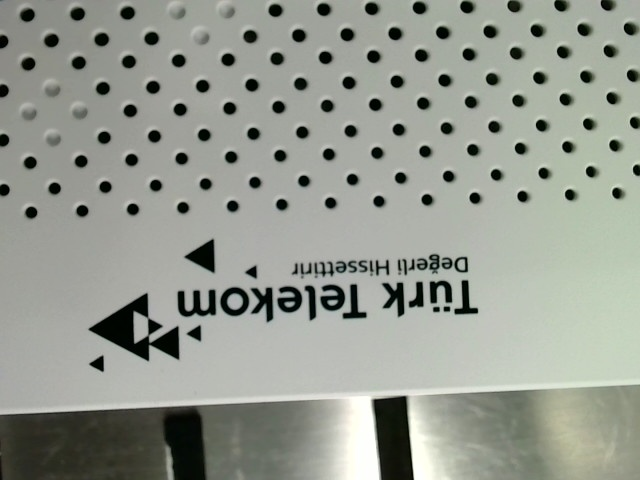AQ_TURKTelekom: (64, 234, 485, 377)
